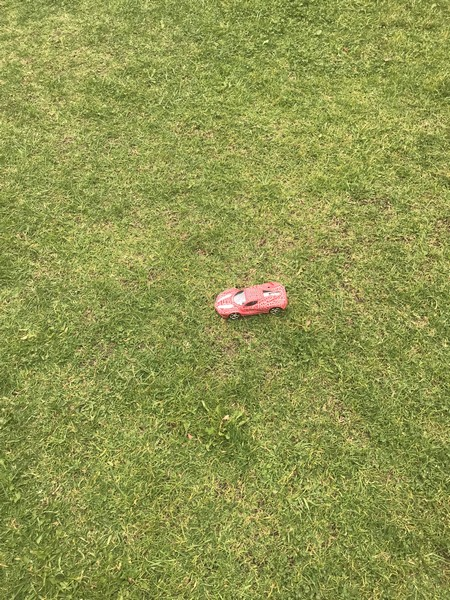RC: (213, 281, 292, 320)
